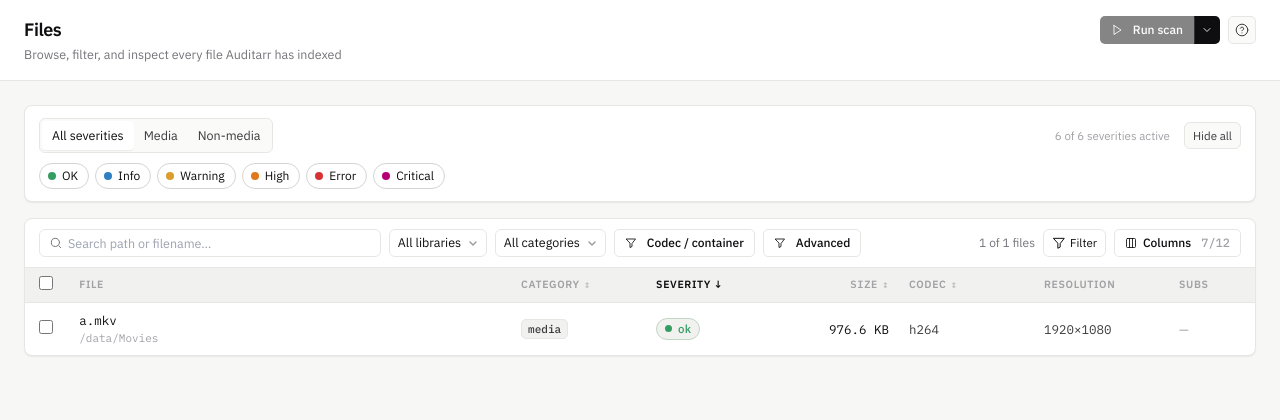
Test: OptimizeProfilePicker Stage 28 › clicking Optimize opens a popover listing enabled profiles only
expect the text "a.mkv" is shown: met, box [79,311,117,330]
Click the checkbox named "Select a.mkv" at (46,326), box [39,320,53,334]
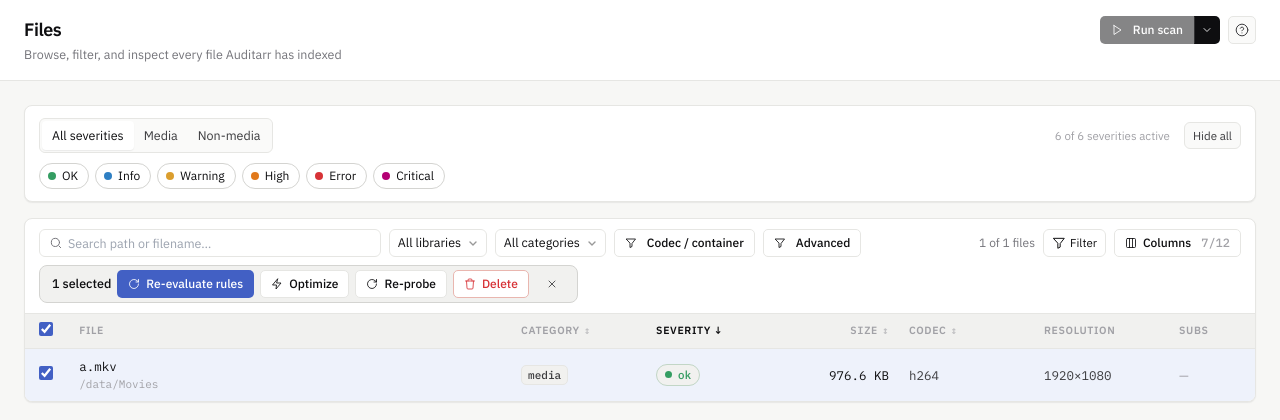
expect the button "Optimize" is enabled: met
Click the button "Optimize" at (305,284), box [260,270,350,298]
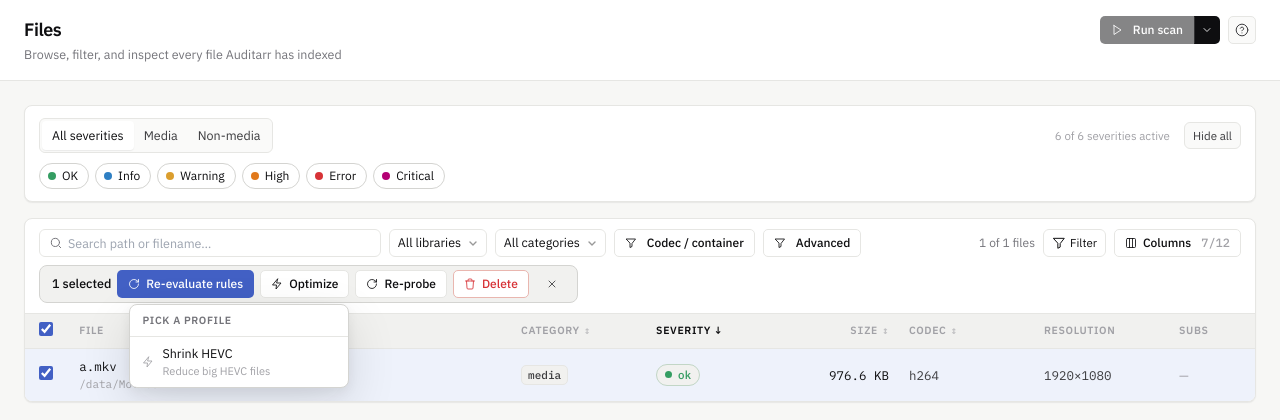
expect the text "Shrink HEVC" is shown: met, box [162,345,232,361]
